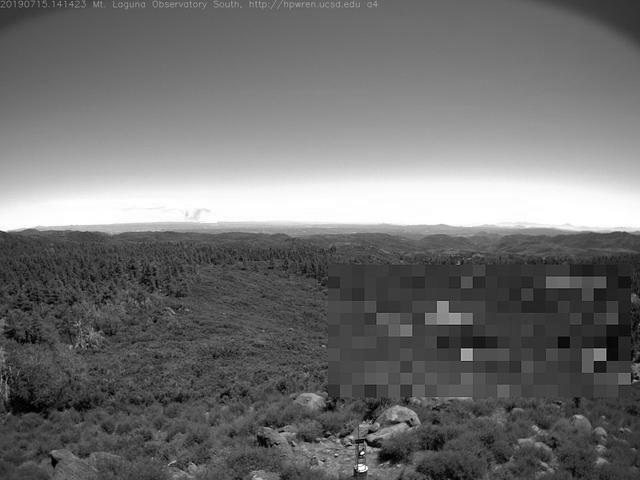smoke: (185, 204, 219, 224)
